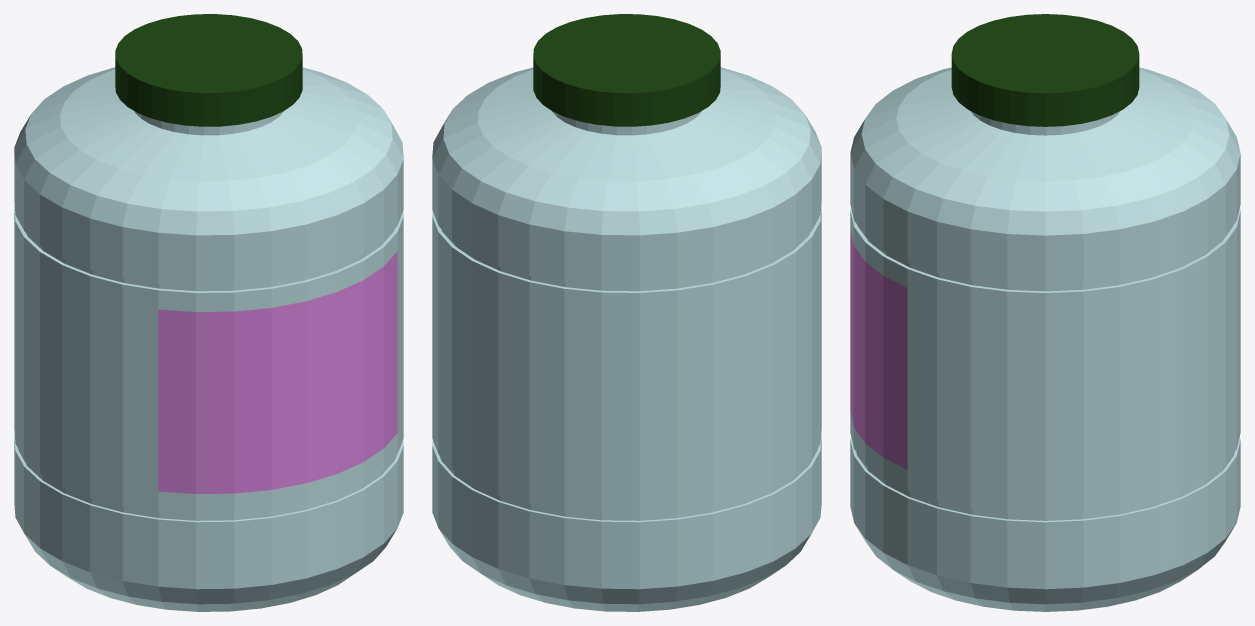
The model's file is herbero.fbx.
3 renders of one model, left to right at view 1: azimuth 30°, elevation 25°; view 2: azimuth 150°, elevation 25°; view 3: azimuth 270°, elevation 25°, orthographic.
Parts seen in each view (by area): view 1: Cylinder; view 2: Cylinder; view 3: Cylinder.
Part boxes in pixels (box(x1,y1,x2,y2)): Cylinder: box(14, 14, 403, 611); Cylinder: box(432, 14, 821, 611); Cylinder: box(850, 14, 1240, 611).
Size of the model in its own units: 200 by 277 by 200.
